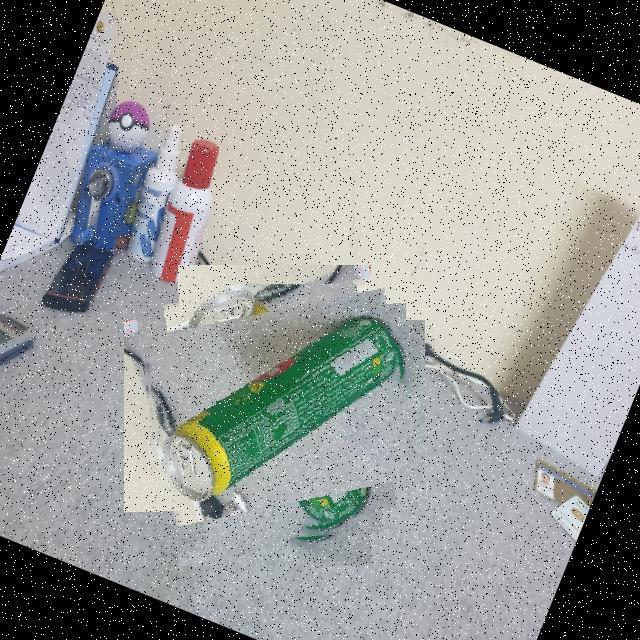recyclable: (143, 284, 406, 547)
